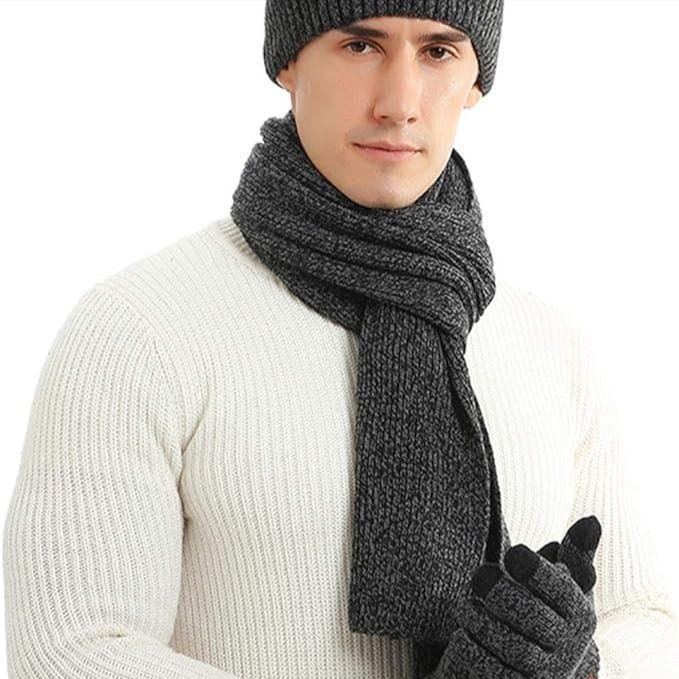cap: (238, 0, 536, 106)
